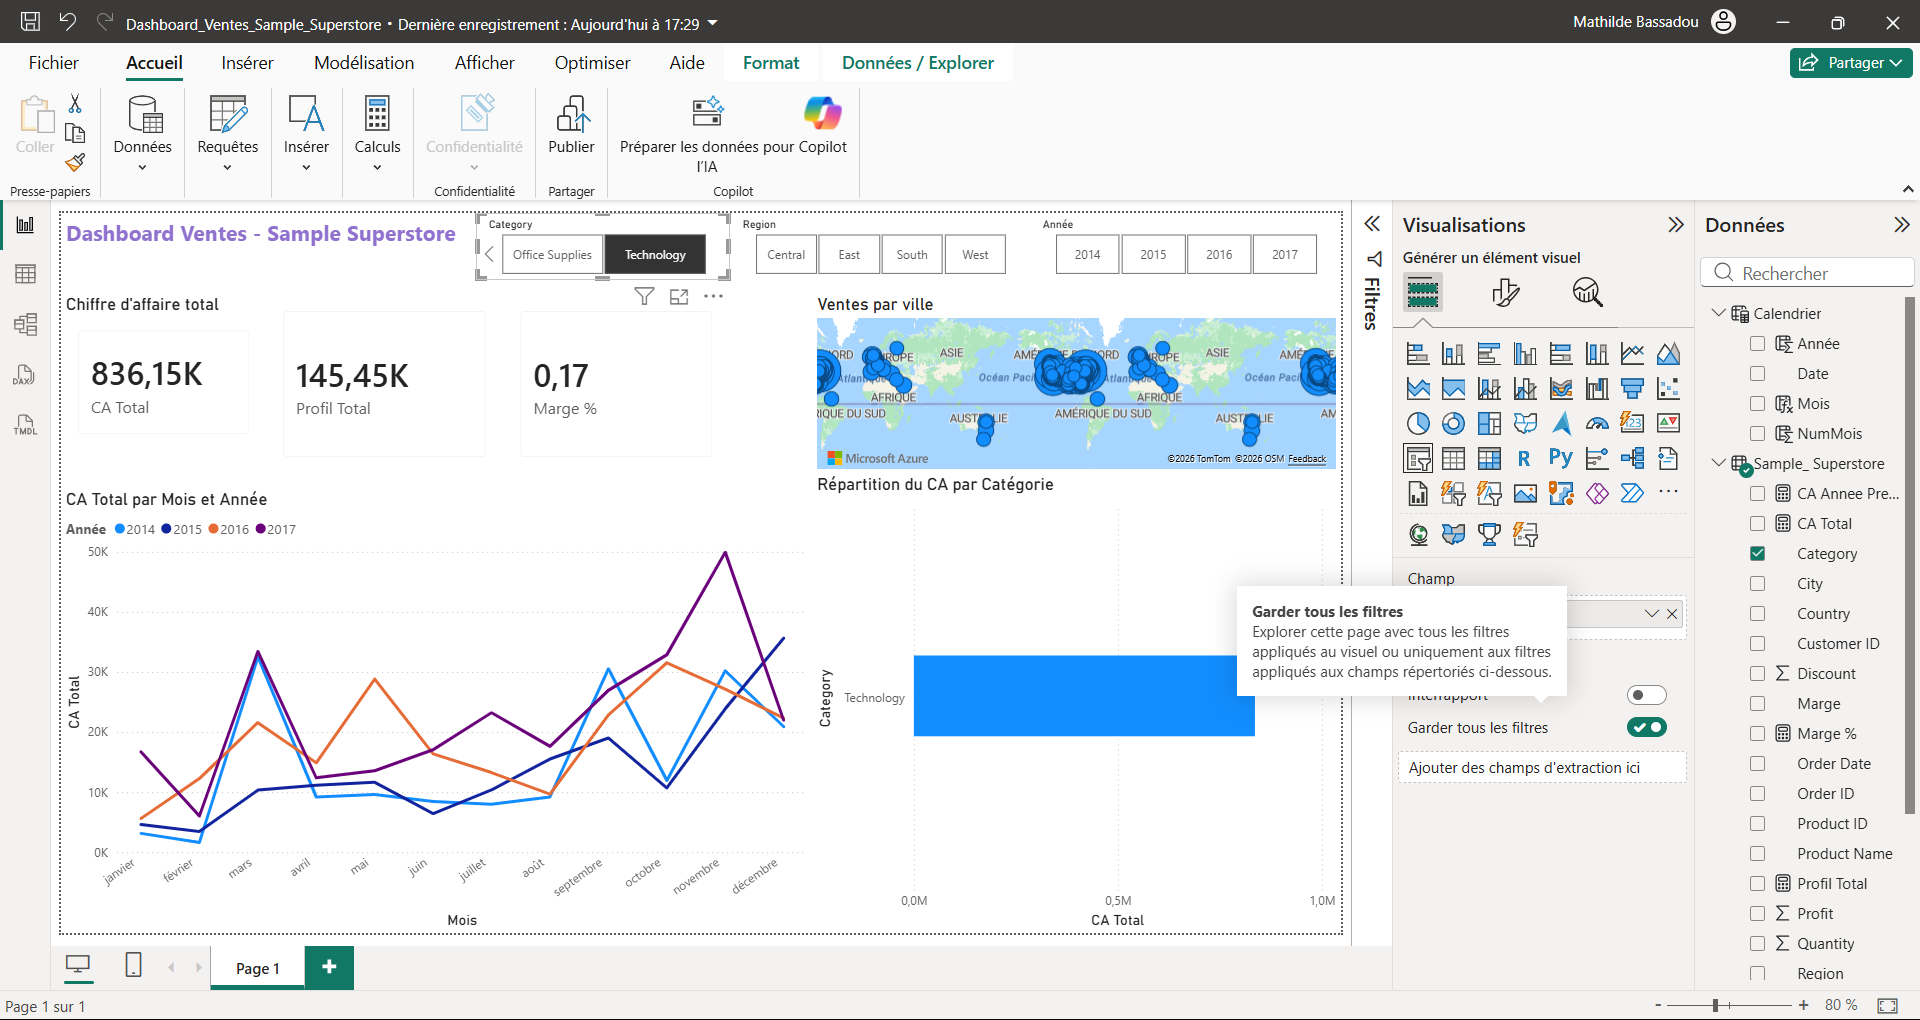

What the dashboard file says about the page in this screenshot:
{"tool":"powerbi","page":{"name":"Page 1","canvas":[1280,720],"ordinal":0},"visuals":[{"type":"cardVisual","title":"Chiffre d''affaire total","fields":{"Data":["Sample_ Superstore.CA Total"]},"box":[0,81.2,205,157.5],"z":1},{"type":"lineChart","fields":{"Y":["Sample_ Superstore.CA Total"],"Series":["Calendrier.Année"],"Category":["Calendrier.Mois"]},"box":[0,276.2,751.2,443.8],"z":2},{"type":"clusteredBarChart","title":"Répartition du CA par Catégorie","fields":{"Y":["Sample_ Superstore.CA Total"],"Category":["Sample_ Superstore.Category"]},"box":[751.2,261.2,528.8,458.8],"z":3},{"type":"azureMap","title":"Ventes par ville","fields":{"Size":["Sample_ Superstore.CA Total"],"Category":["Sample_ Superstore.City"]},"box":[751.2,81.2,528.8,180],"z":4},{"type":"cardVisual","fields":{"Data":["Sample_ Superstore.Profil Total"]},"box":[205,81.2,237.5,180],"z":5},{"type":"cardVisual","fields":{"Data":["Sample_ Superstore.Marge %"]},"box":[442.5,81.2,226.2,180],"z":6},{"type":"textbox","box":[0,0,415,53.8],"z":7},{"type":"slicer","fields":{"Values":["Calendrier.Année"]},"box":[968.8,0,311.2,67.5],"z":8},{"type":"slicer","fields":{"Values":["Sample_ Superstore.Region"]},"box":[668.8,0,300,67.5],"z":9},{"type":"slicer","fields":{"Values":["Sample_ Superstore.Category"]},"box":[415,0,253.8,67.5],"z":10}]}

Visuals, with their boxes on the page's 1280x720 design canvas (x1, y1, x2, y2). These are canvas units, not pixel positions in the 1920x1020 screenshot, which may show the page scaled, cropped or inside an application window:
"Chiffre d''affaire total" cardVisual: (x1=0, y1=81, x2=205, y2=239)
lineChart - Sample_ Superstore.CA Total x Calendrier.Année: (x1=0, y1=276, x2=751, y2=720)
"Répartition du CA par Catégorie" clusteredBarChart: (x1=751, y1=261, x2=1280, y2=720)
"Ventes par ville" azureMap: (x1=751, y1=81, x2=1280, y2=261)
cardVisual - Sample_ Superstore.Profil Total: (x1=205, y1=81, x2=442, y2=261)
cardVisual - Sample_ Superstore.Marge %: (x1=442, y1=81, x2=669, y2=261)
textbox: (x1=0, y1=0, x2=415, y2=54)
slicer - Calendrier.Année: (x1=969, y1=0, x2=1280, y2=68)
slicer - Sample_ Superstore.Region: (x1=669, y1=0, x2=969, y2=68)
slicer - Sample_ Superstore.Category: (x1=415, y1=0, x2=669, y2=68)
